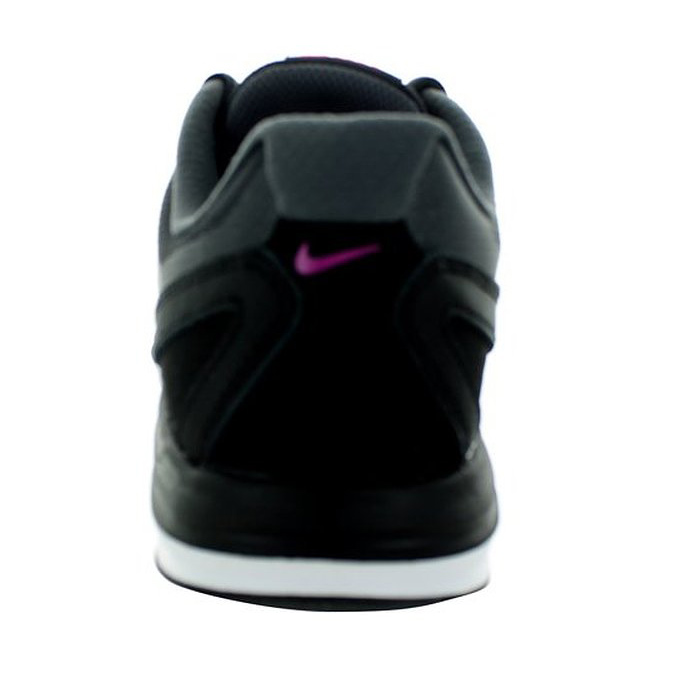Nike: (291, 235, 384, 277)
